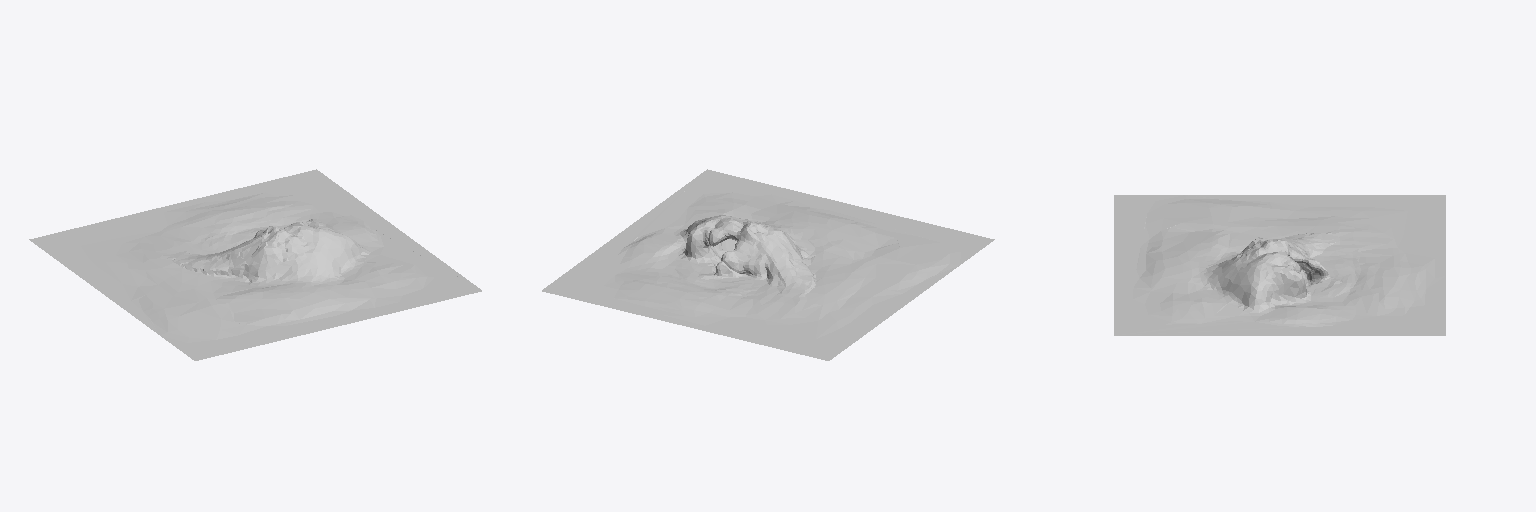
The model's file is PlainWithCave10.obj.
The picture shows the model from 3 angles: view 1: azimuth 30°, elevation 25°; view 2: azimuth 150°, elevation 25°; view 3: azimuth 270°, elevation 25°; orthographic projection.
Parts seen in each view (by area): view 1: Tile; view 2: Tile; view 3: Tile.
Boxes of the visible parts, x1=… form: Tile: x1=29, y1=169, x2=481, y2=360; Tile: x1=542, y1=169, x2=994, y2=360; Tile: x1=1114, y1=195, x2=1445, y2=335.
Size of the model in its own units: 250 by 40.51 by 250.